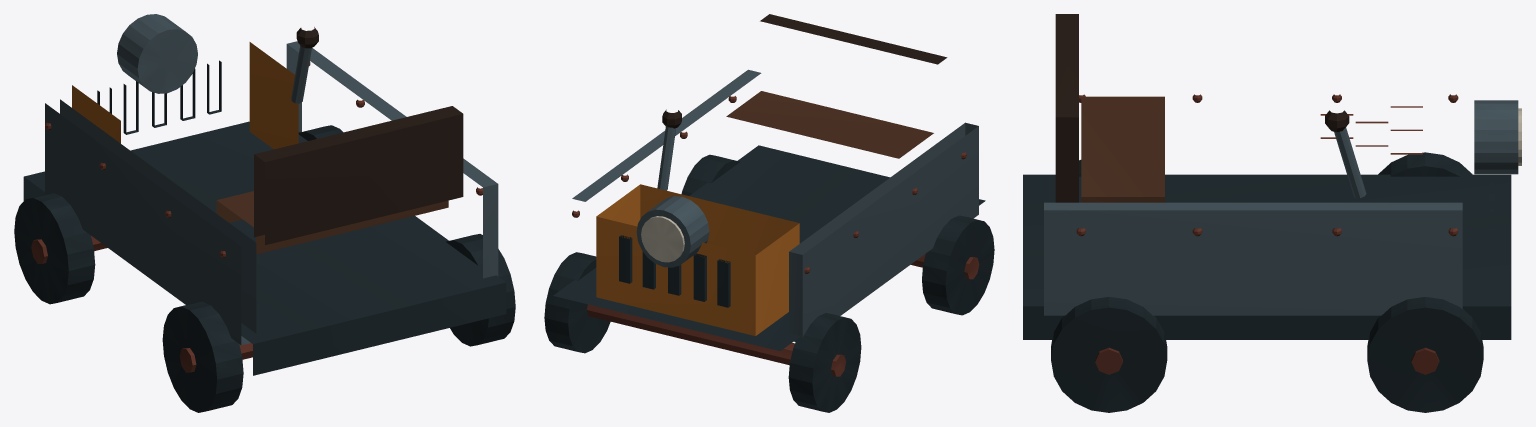
The model's file is mining_cart.glb.
3 renders of one model, left to right at view 1: azimuth 30°, elevation 25°; view 2: azimuth 150°, elevation 25°; view 3: azimuth 270°, elevation 25°, orthographic. The views are drawn at different scales.
Parts seen in each view (by area): view 1: RailMiningCart_Mesh; view 2: RailMiningCart_Mesh; view 3: RailMiningCart_Mesh.
Boxes of the visible parts, <box> form: RailMiningCart_Mesh: <box>14,14,515,412</box>; RailMiningCart_Mesh: <box>544,14,994,412</box>; RailMiningCart_Mesh: <box>1023,14,1521,412</box>.
Bounding box in the file's own units: 1.62 × 1.28 × 2.14.
